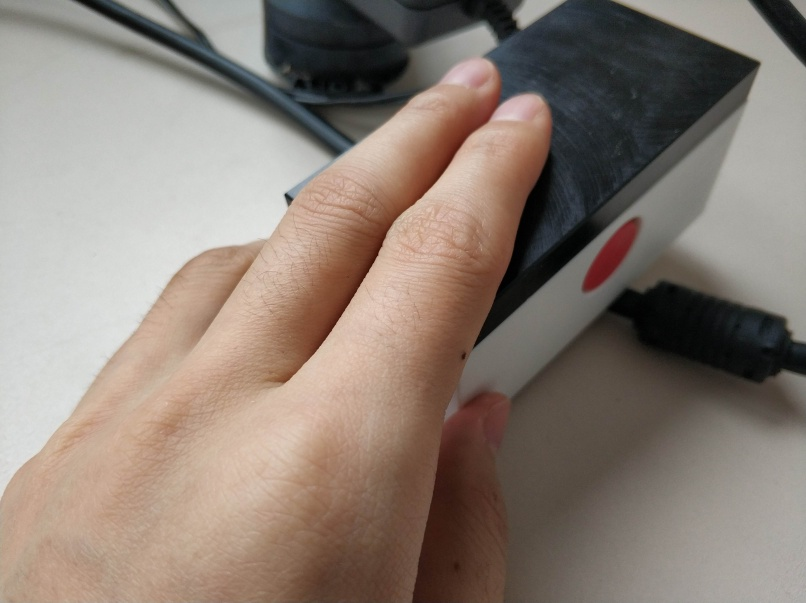black+white+red: (454, 2, 765, 421)
